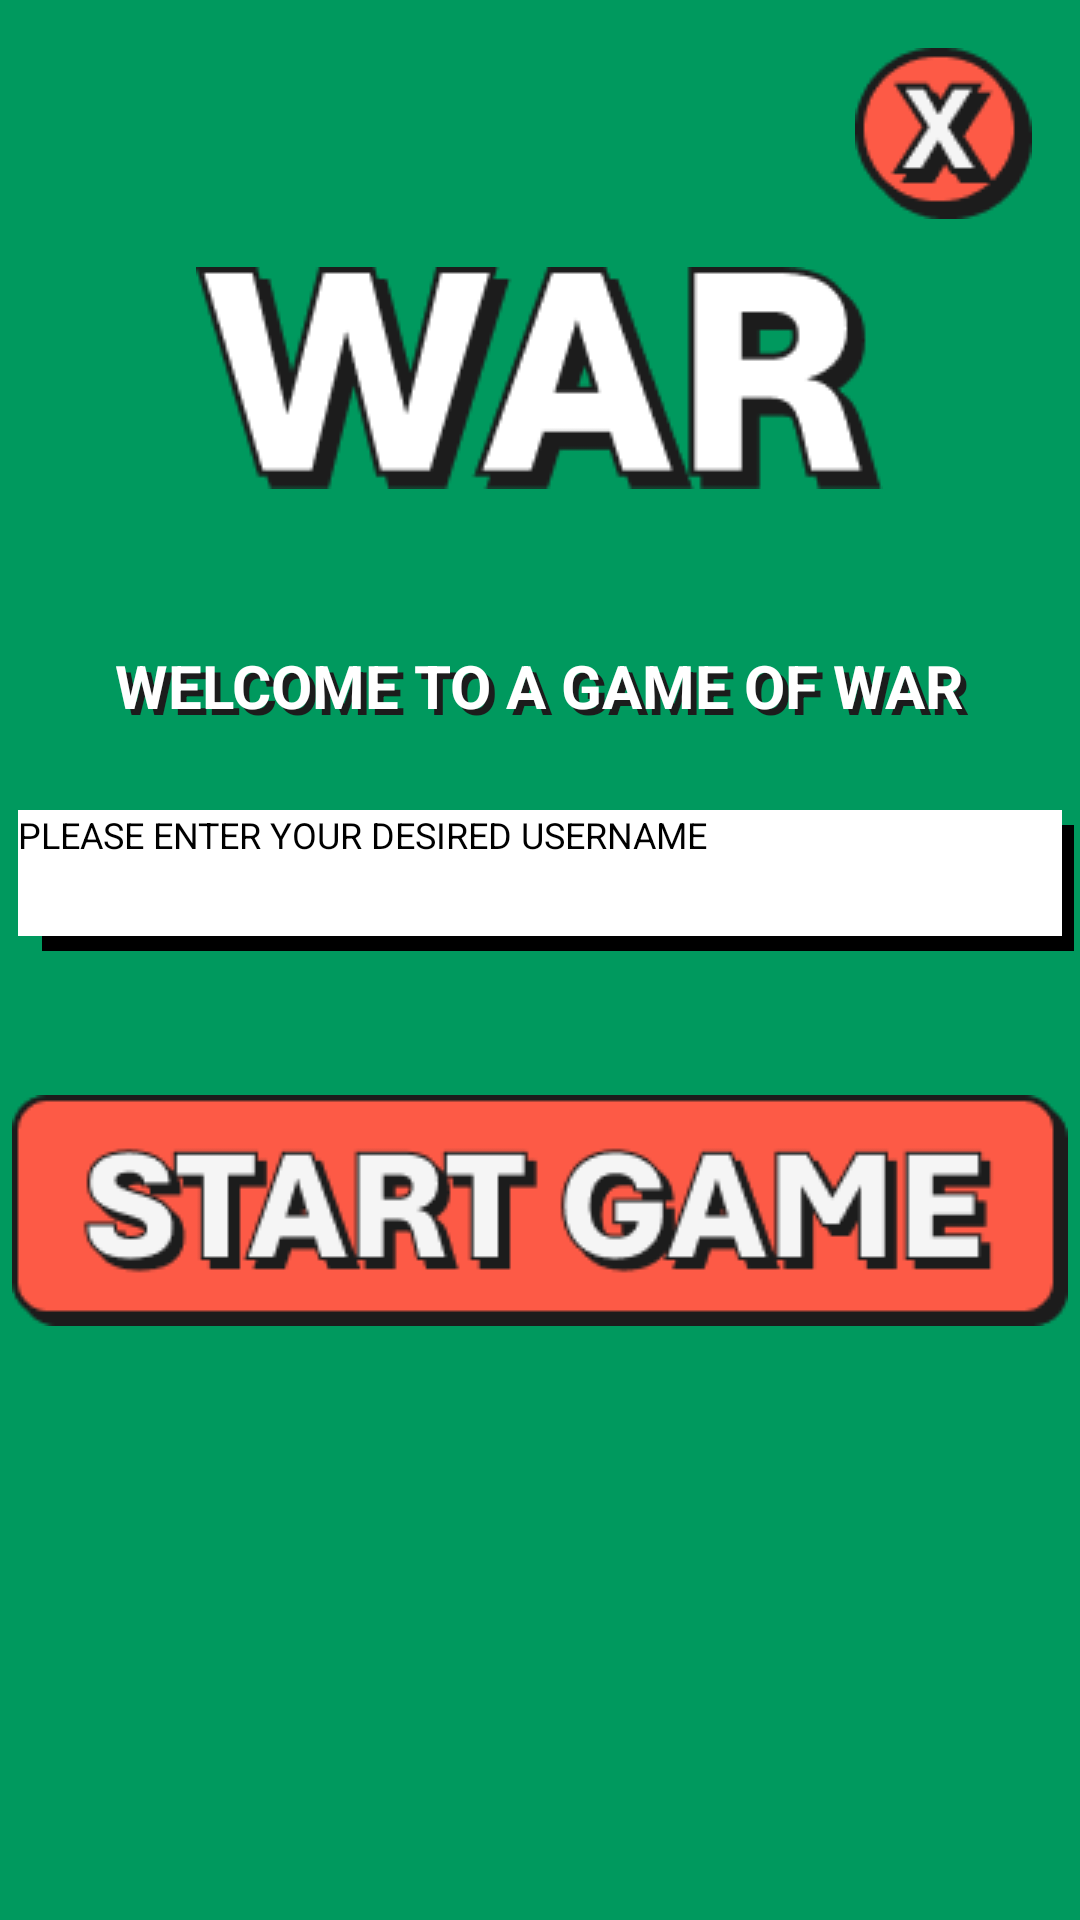

Where to tap for icons on this 1080w x 1920h app screen, as [x,y]:
exit: [943,133]
